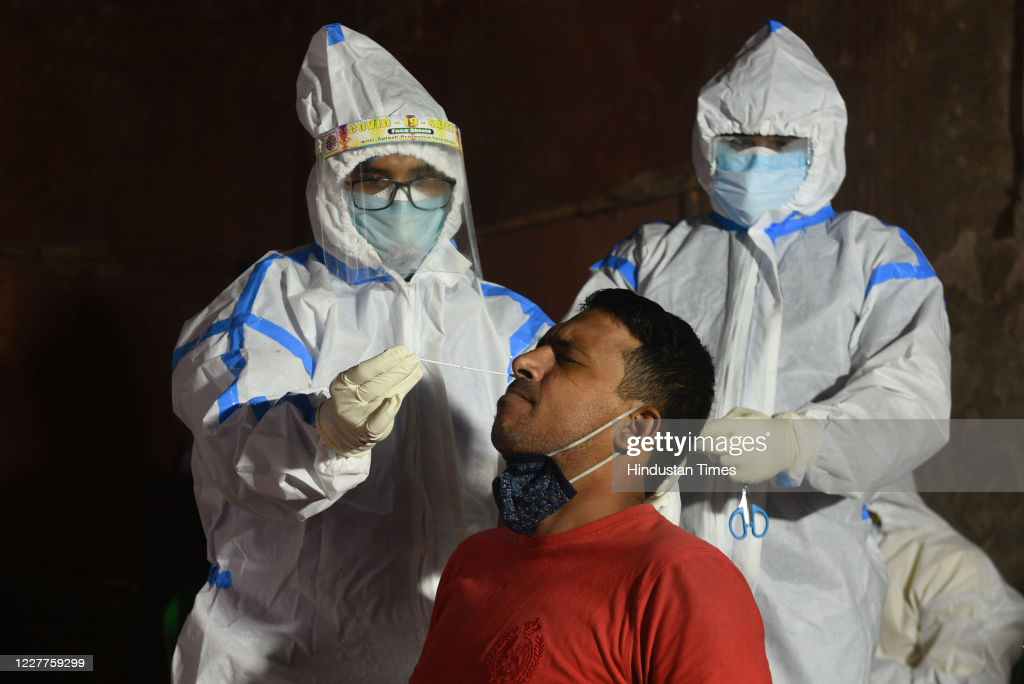Coverall: (568, 23, 966, 684), (174, 20, 552, 684)
Gloves: (314, 345, 425, 461)
with_mask: (345, 190, 451, 285), (707, 140, 816, 226)
